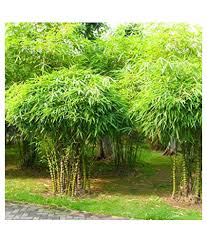bamboo: (6, 24, 203, 154), (15, 84, 118, 202), (130, 90, 203, 204)
